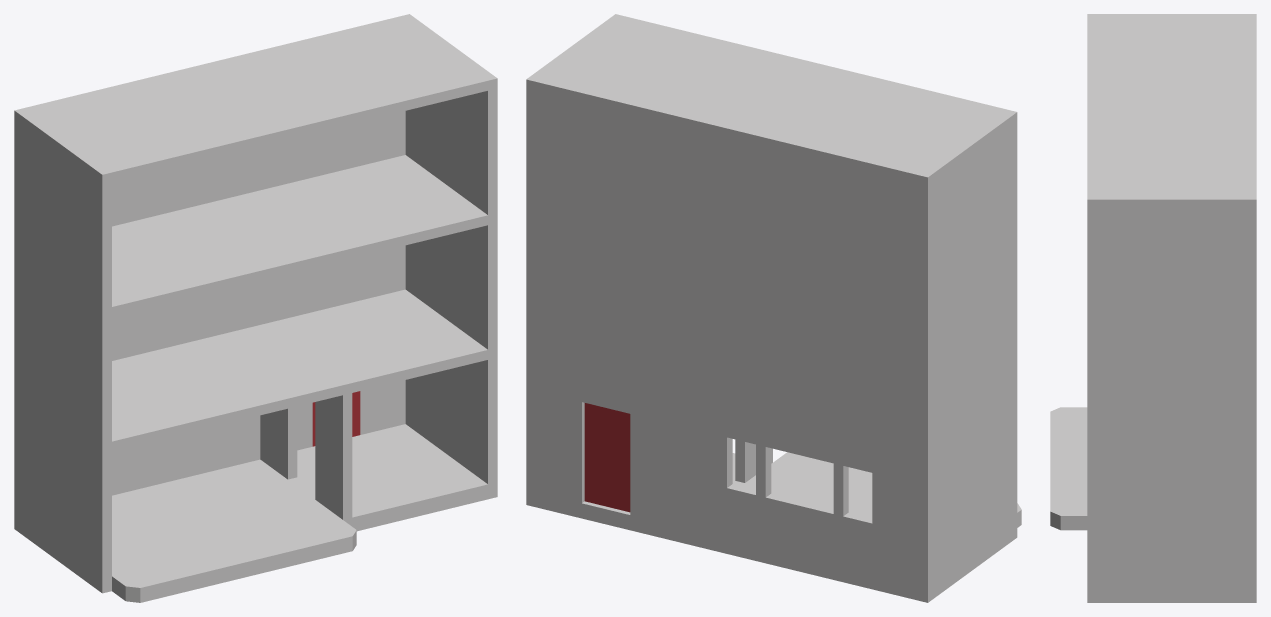
The model's file is sm_Maison_Salon.fbx.
3 renders of one model, left to right at view 1: azimuth 30°, elevation 25°; view 2: azimuth 150°, elevation 25°; view 3: azimuth 270°, elevation 25°, orthographic. The views are drawn at different scales.
Visible parts, largest first — view 1: SM_Maison_Salon; view 2: SM_Maison_Salon, SM_Door; view 3: SM_Maison_Salon.
Boxes of the visible parts, x1,y1,x2,y2 form: SM_Maison_Salon: [14, 14, 497, 602]; SM_Maison_Salon: [526, 14, 1021, 602]; SM_Door: [584, 403, 630, 512]; SM_Maison_Salon: [1050, 14, 1256, 602].
Size of the model in its own units: 8.3 by 8.4 by 3.9.
